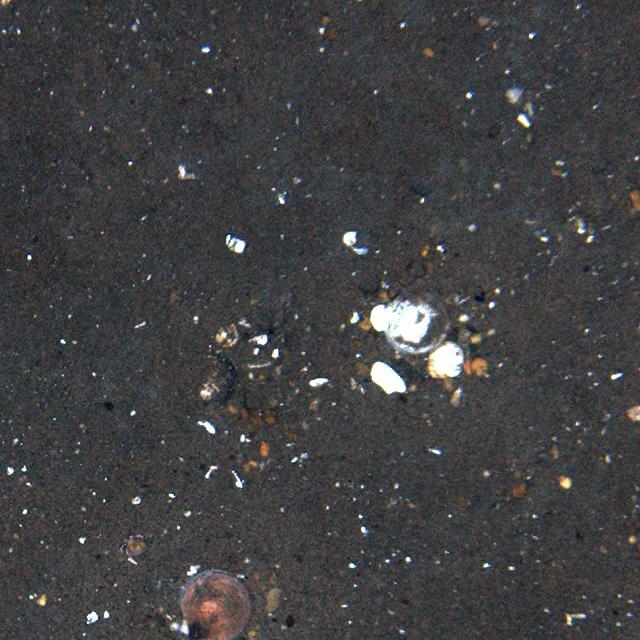scallop: (175, 567, 254, 640)
